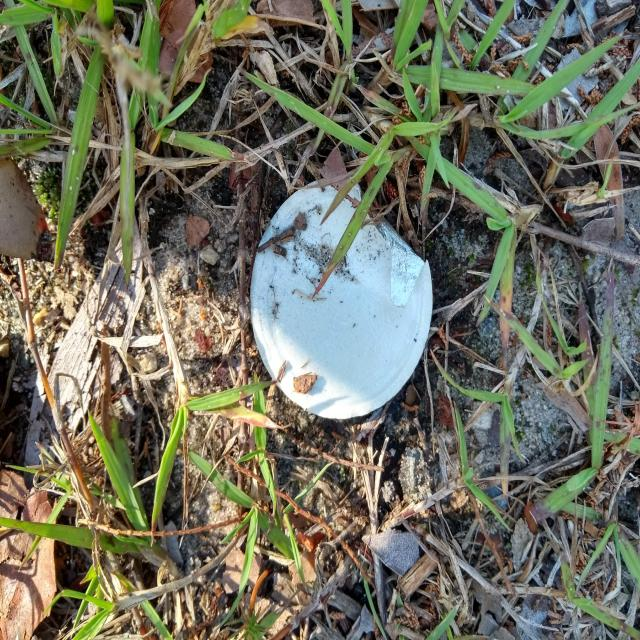litter: (251, 176, 432, 419)
